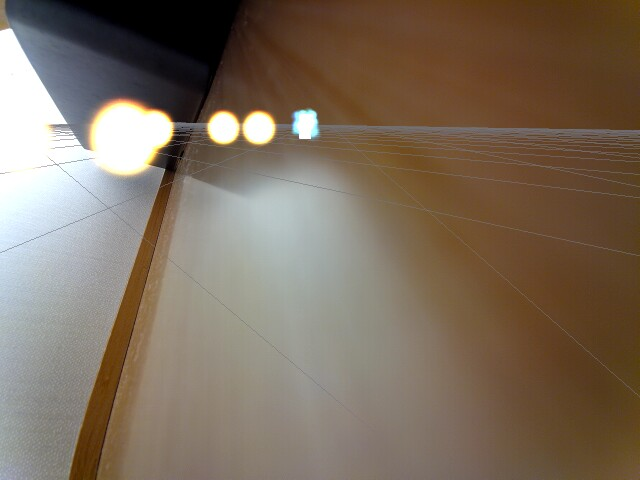fire: (88, 94, 171, 176), (242, 109, 280, 148), (205, 108, 241, 145)
